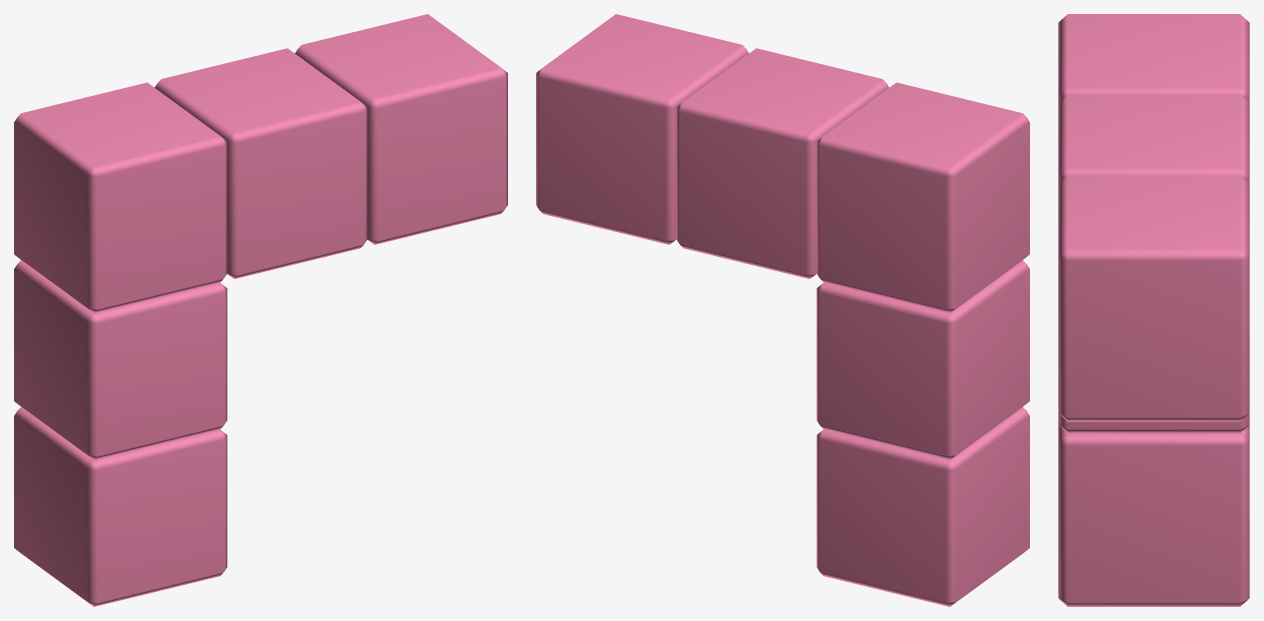
The model's file is FinBarbie4.fbx.
3 views of the same model, side by side, from view 1: azimuth 30°, elevation 25°; view 2: azimuth 150°, elevation 25°; view 3: azimuth 270°, elevation 25° (orthographic). The views are drawn at different scales.
Parts seen in each view (by area): view 1: geo1; view 2: geo1; view 3: geo1.
Part boxes in pixels (<box>): geo1: <box>14,14,507,606</box>; geo1: <box>536,14,1029,606</box>; geo1: <box>1058,14,1249,606</box>.
Bounding box in the file's own units: 3 × 3 × 1.
